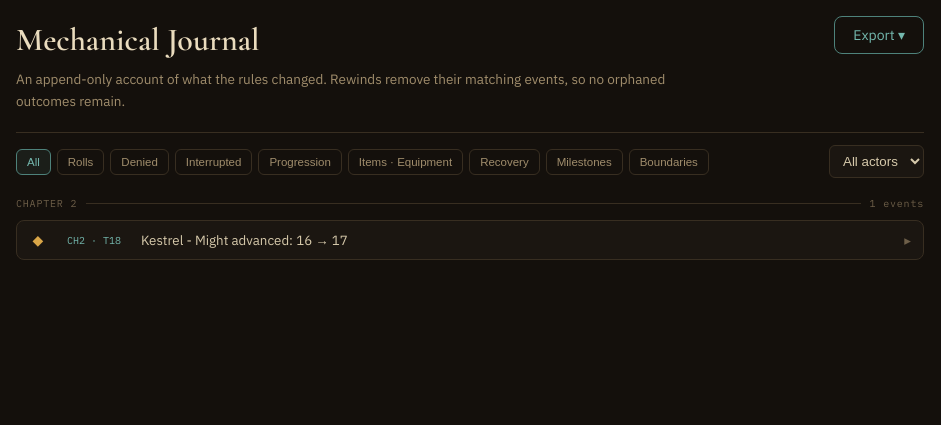
Mechanical Journal › classifies attribute advancement as progression and exposes its scene evidence
The image size is (941, 425).
Click the text "Kestrel - Might advanced: 16 → 17".
click(244, 240)  # box [141,231,348,249]
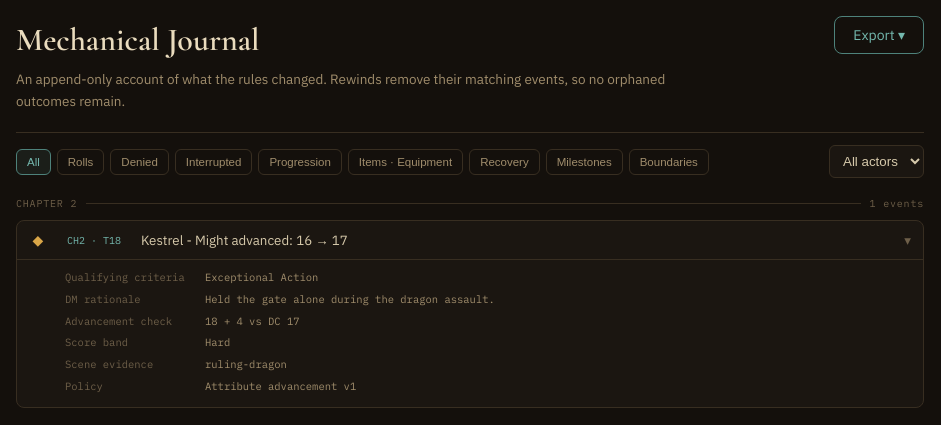
Check: the text "Exceptional Action" is shown, box [205,270,318,284]
Check: the text "Held the gate alone during the dragon assault." is shown, box [205,292,495,306]
Check: the text "ruling-dragon" is shown, box [205,357,287,371]
